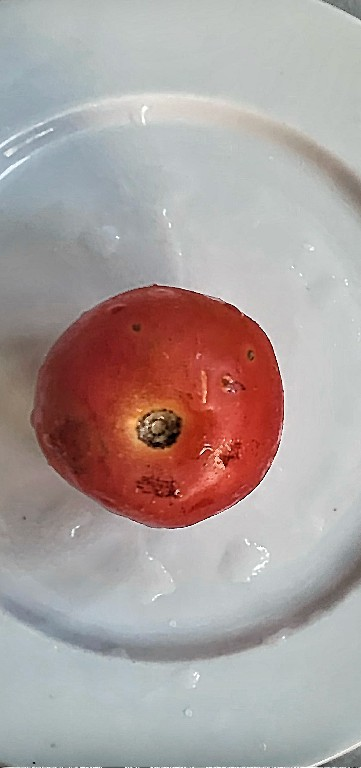NG: (26, 281, 284, 531)
